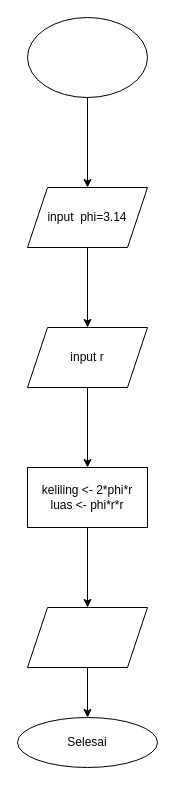
Image size: 175x785. Some labels were removed from this diagram. Each missing label, with the centre of its shape:
Mulai: the point at 87,57
output keliling output luas: the point at 87,637
